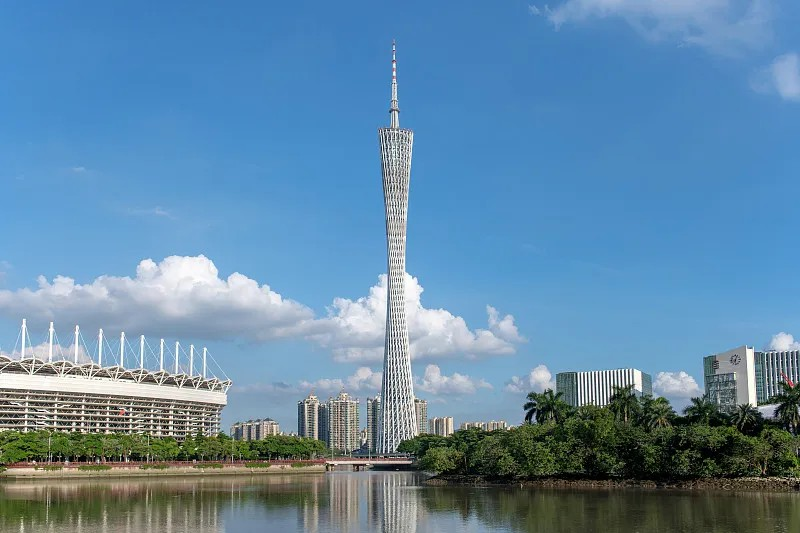Canton: (375, 38, 419, 457)
